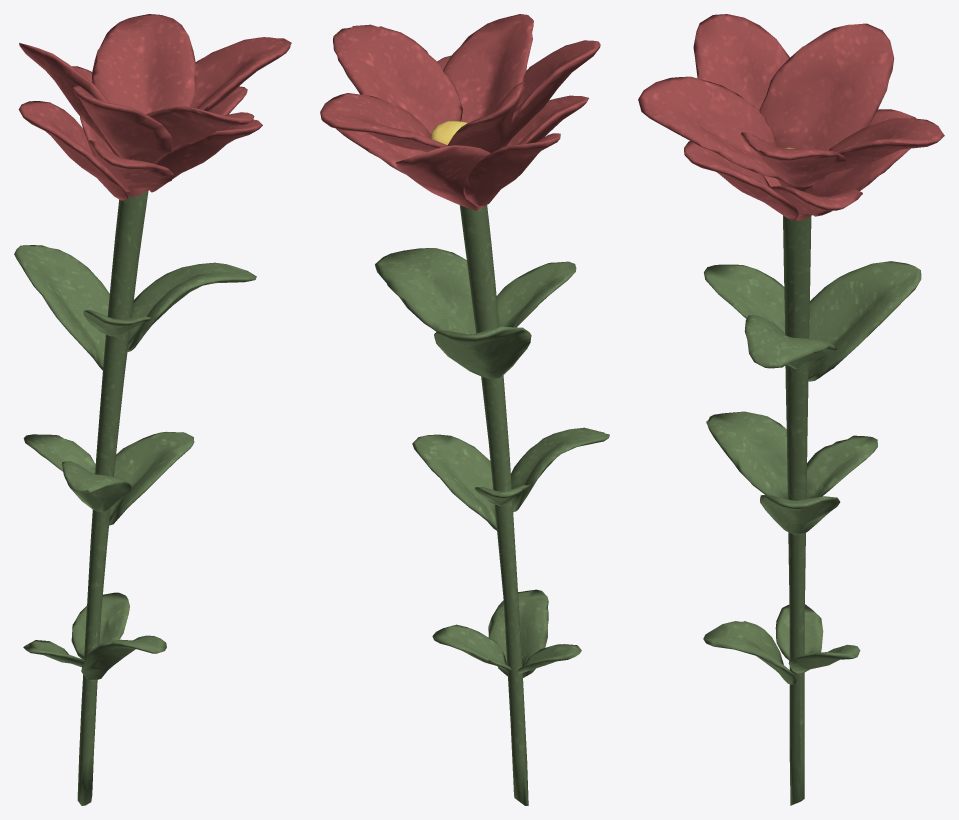
The model's file is kwiatek_czerwony.fbx.
3 views of the same model, side by side, from view 1: azimuth 30°, elevation 25°; view 2: azimuth 150°, elevation 25°; view 3: azimuth 270°, elevation 25° (orthographic). The views are drawn at different scales.
Visible parts, largest first — view 1: Merged_PM3D_Sphere3D2_9.002; view 2: Merged_PM3D_Sphere3D2_9.002; view 3: Merged_PM3D_Sphere3D2_9.002.
Boxes of the visible parts, <box> form: Merged_PM3D_Sphere3D2_9.002: <box>14,14,291,805</box>; Merged_PM3D_Sphere3D2_9.002: <box>320,14,609,805</box>; Merged_PM3D_Sphere3D2_9.002: <box>638,14,944,805</box>.
Bounding box in the file's own units: 70.32 × 197 × 70.88.
Materials: 3 (3 with a texture image).
